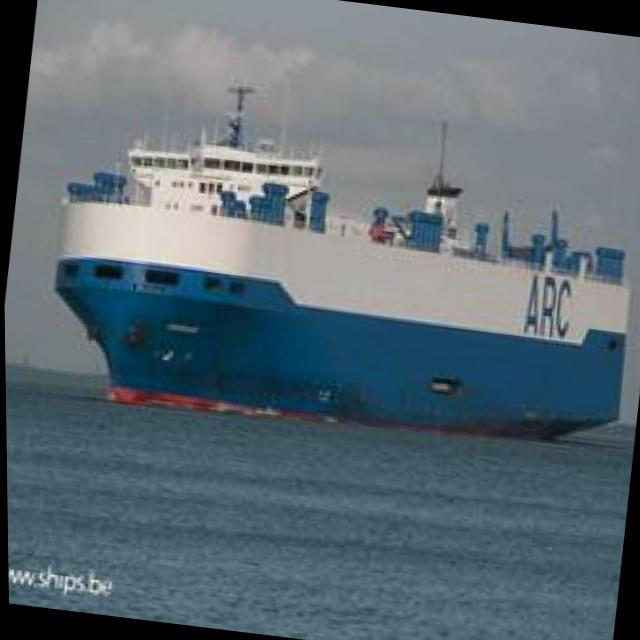ship2: (51, 88, 632, 444)
